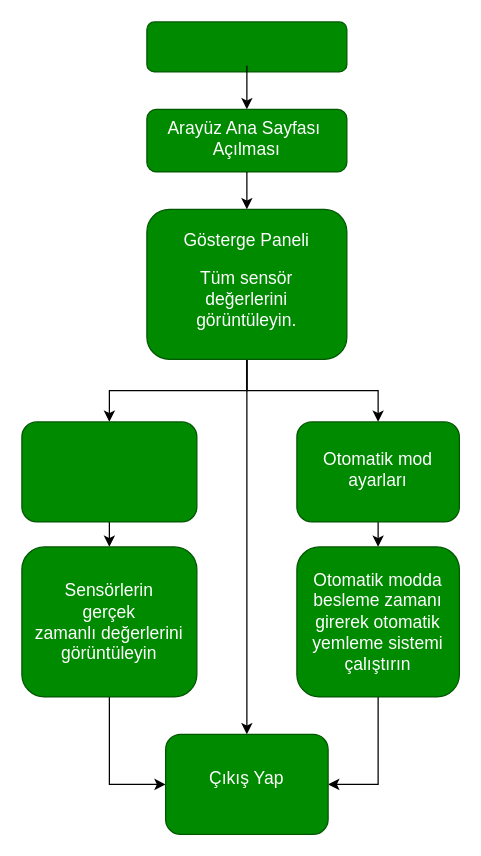
The diagram is 481 pixels wide and 856 high, and some of its shapes have lost their labels. The box of each missing label's shape, as (x1, y1, x2, y2) in pixels:
Başla: (146, 21, 347, 72)
Manuel Mod Ayarları: (21, 421, 197, 522)
